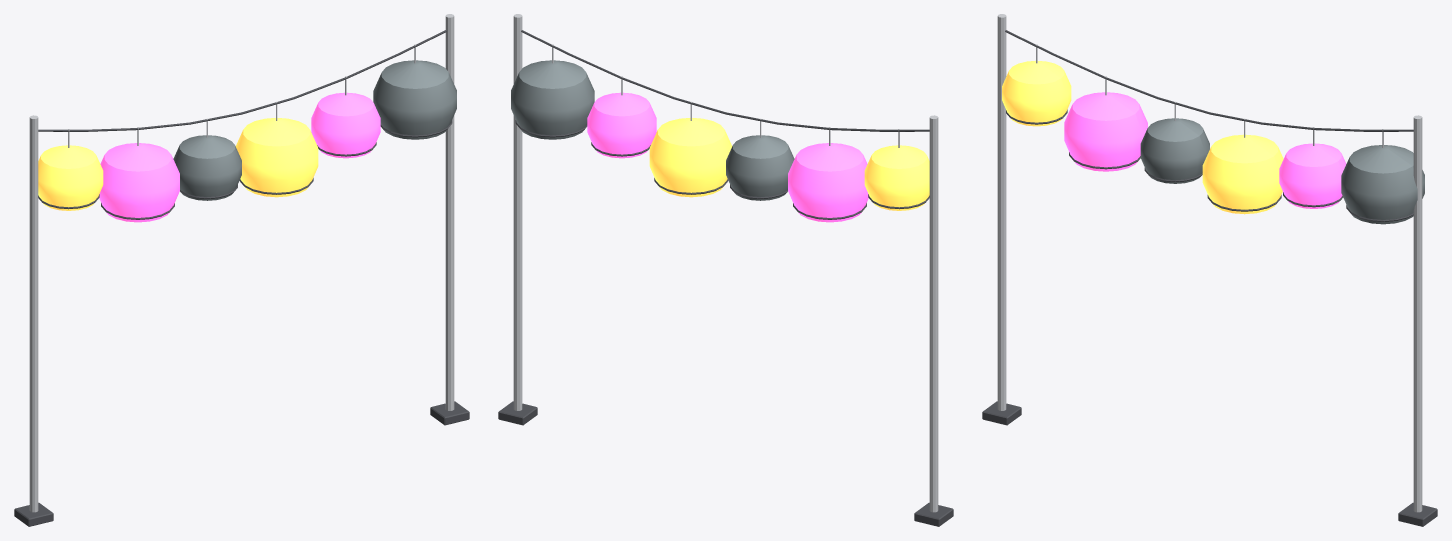
File: cyberpunk-apartment-and-neon-block-paper-lantern-strip-a42f9198__37840.glb
The picture shows the model from 3 angles, left to right: view 1: azimuth 30°, elevation 25°; view 2: azimuth 150°, elevation 25°; view 3: azimuth 330°, elevation 25°; orthographic projection.
Visible parts, largest first — view 1: paper-lantern-strip; view 2: paper-lantern-strip; view 3: paper-lantern-strip.
Boxes of the visible parts, bbox=[...] form: paper-lantern-strip: bbox=[14, 14, 469, 526]; paper-lantern-strip: bbox=[498, 14, 953, 526]; paper-lantern-strip: bbox=[982, 14, 1437, 526].
Size of the model in its own units: 2.76 by 2.4 by 0.453.
